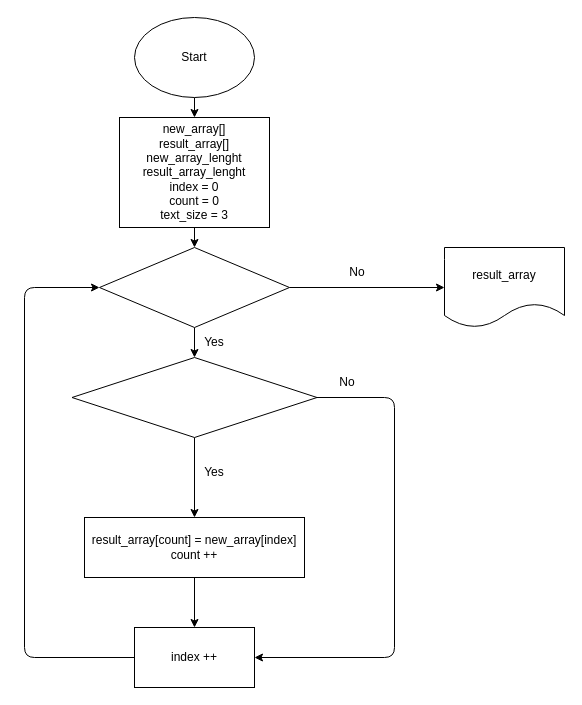
The diagram is 582 pixels wide and 705 high, and some of its shapes have lost their labels. The centre of each missing label's shape, as x and y in pixels:
"index < new_array_lenght" belongs at (194,287).
"new_array[index].Lenght <= text_size" belongs at (194,397).
